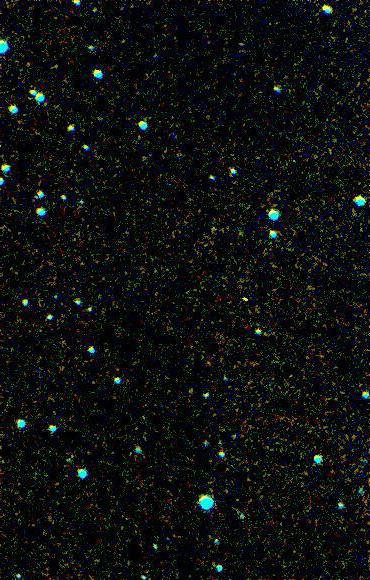star: (232, 281, 262, 311)
